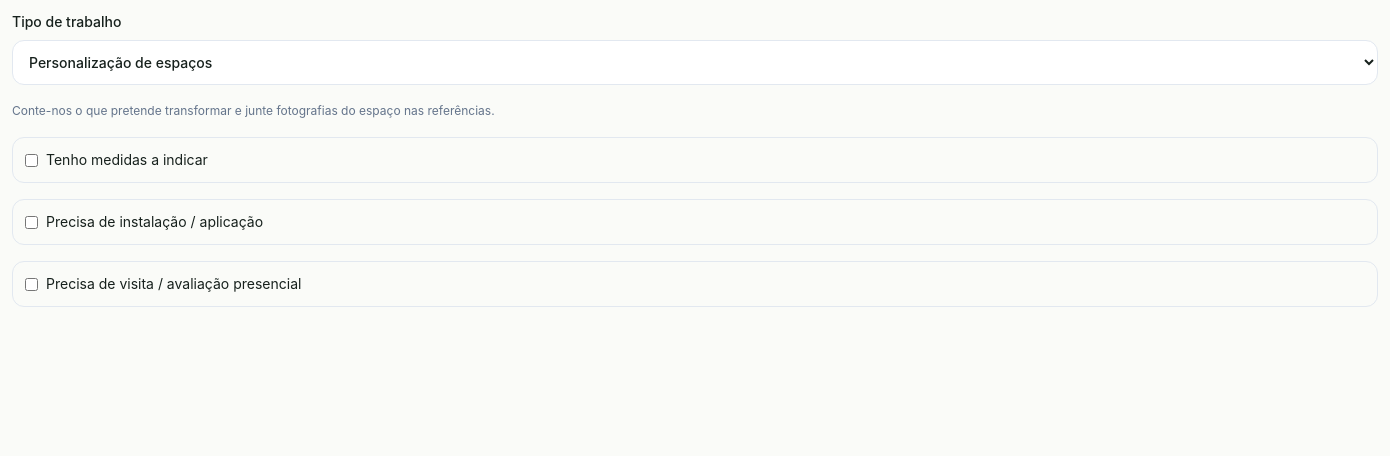
Test: Contextual material briefing › reveals subforms only when requested and retains their values
The image size is (1390, 456).
Expected: the field labelled "Local e disponibilidade para visita" is not shown
Click the checkbox labelled "Precisa de visita / avaliação presencial".
click(32, 284)  # box [25,278,38,291]
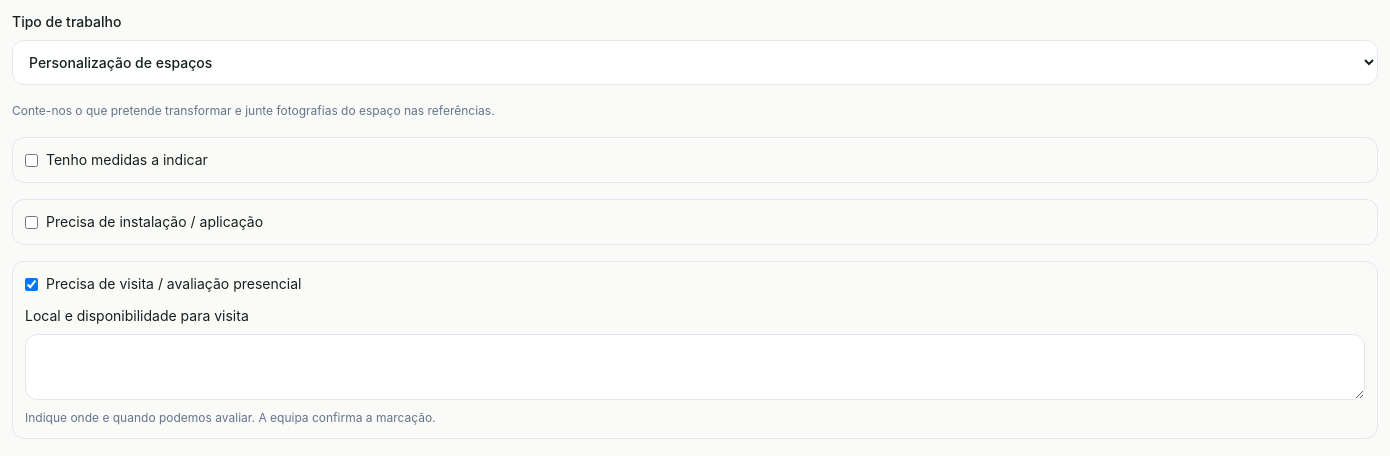
Type "Matola, terça-feira" into the text box labelled "Local e disponibilidade para visita".
click(695, 367); type("Matola, terça-feira")  # box [25,334,1365,400]
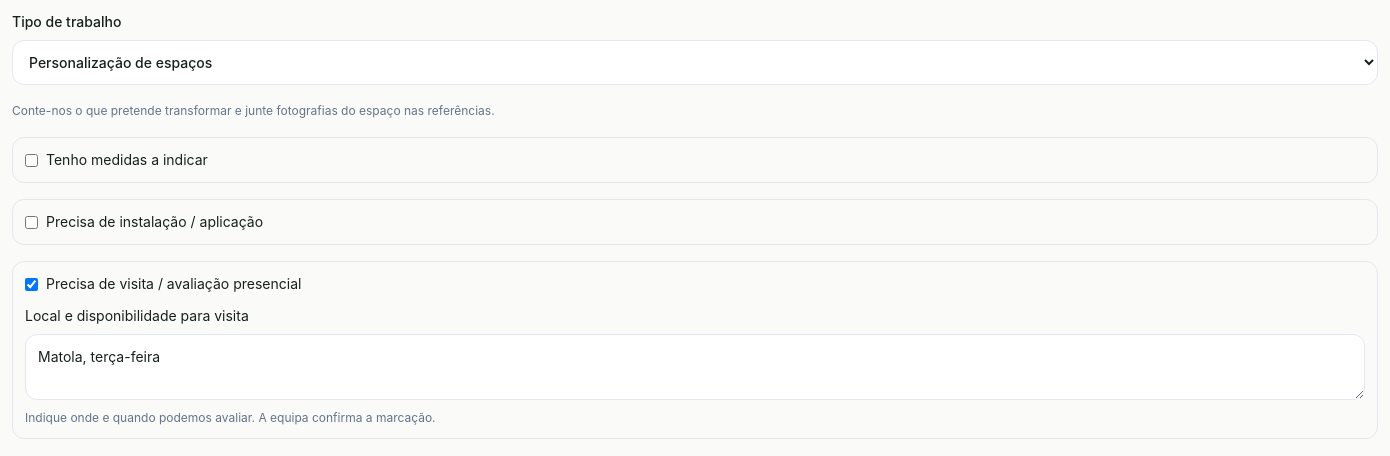
Click the checkbox labelled "Precisa de visita / avaliação presencial".
click(32, 284)  # box [25,278,38,291]
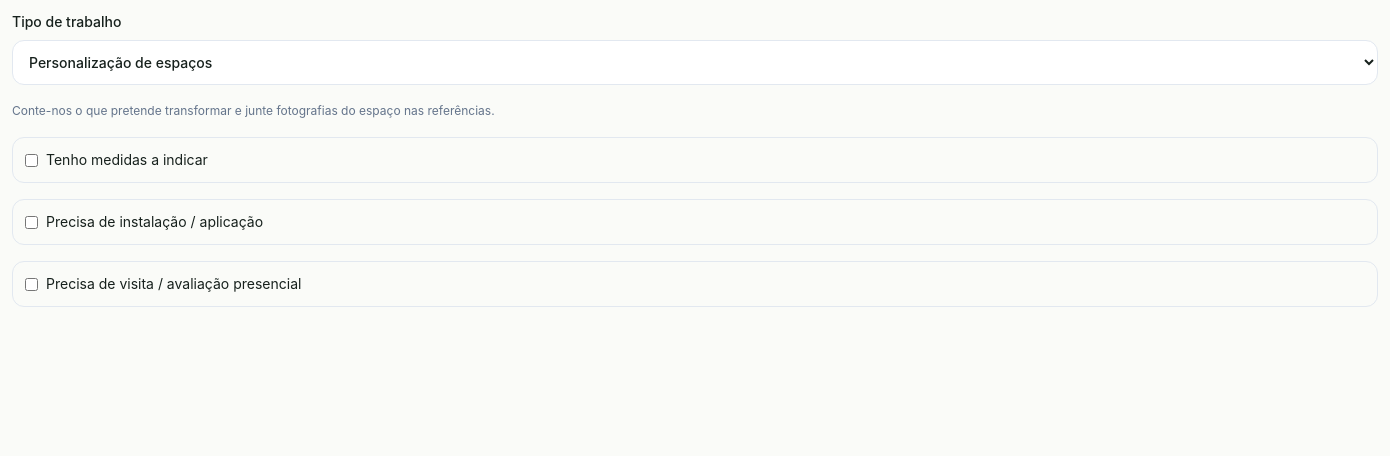
Expected: the label labelled "Local e disponibilidade para visita" is gone
Click the checkbox labelled "Precisa de visita / avaliação presencial".
click(32, 284)  # box [25,278,38,291]
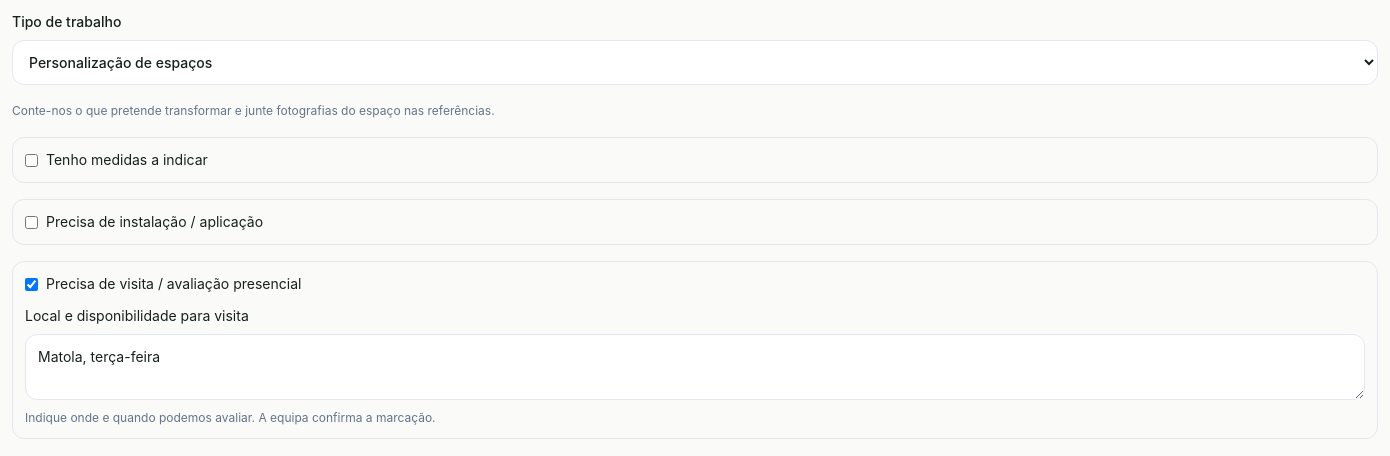
Expected: the text box labelled "Local e disponibilidade para visita" holds "Matola, terça-feira", [25,334,1365,400]
